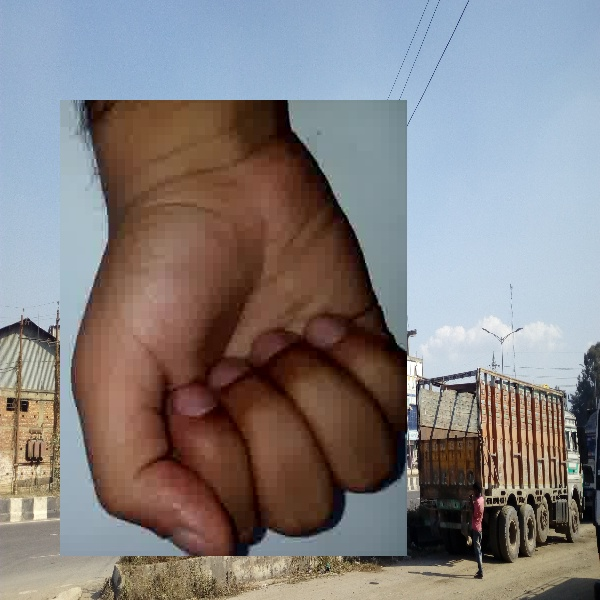A: (60, 100, 407, 556)
